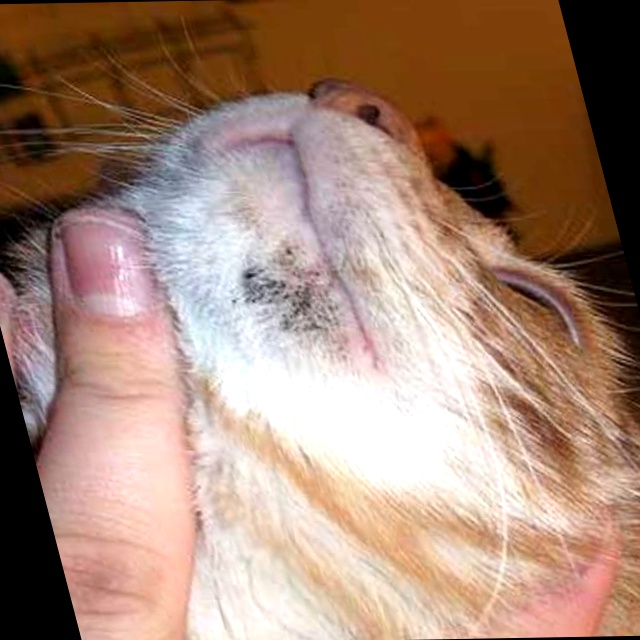acne: (226, 245, 348, 341)
